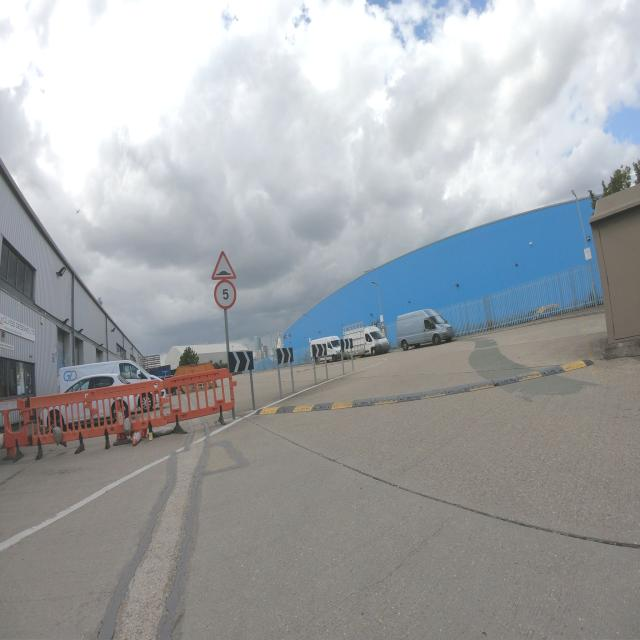car: (396, 316, 455, 350), (351, 330, 390, 356), (327, 336, 353, 362), (310, 341, 328, 360)
